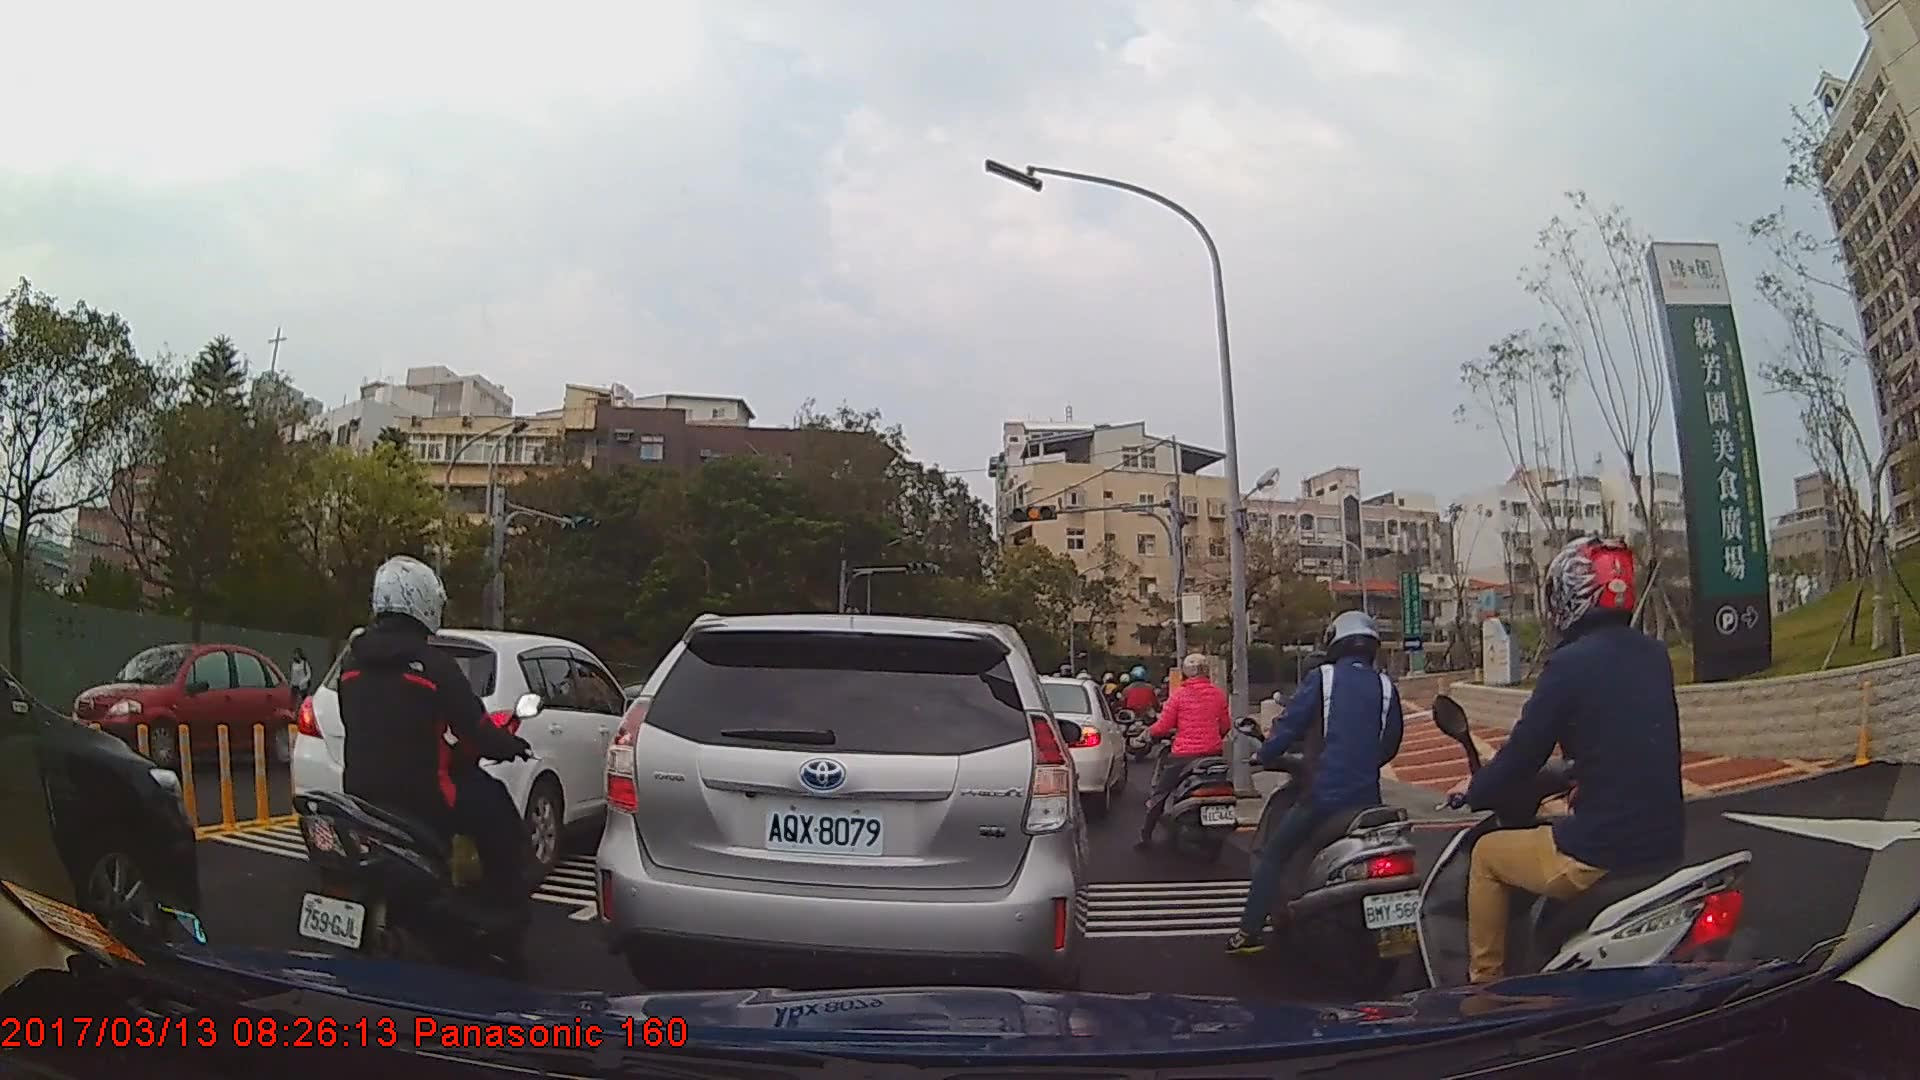pedestrian: (289, 649, 314, 726)
rider: (1420, 532, 1756, 1059), (288, 557, 549, 1000), (1241, 610, 1430, 1000), (1140, 652, 1244, 867), (1118, 665, 1159, 764)
vehicle: (596, 612, 1091, 1020), (294, 627, 638, 876), (0, 660, 198, 956), (71, 644, 295, 766), (1017, 672, 1128, 812)
